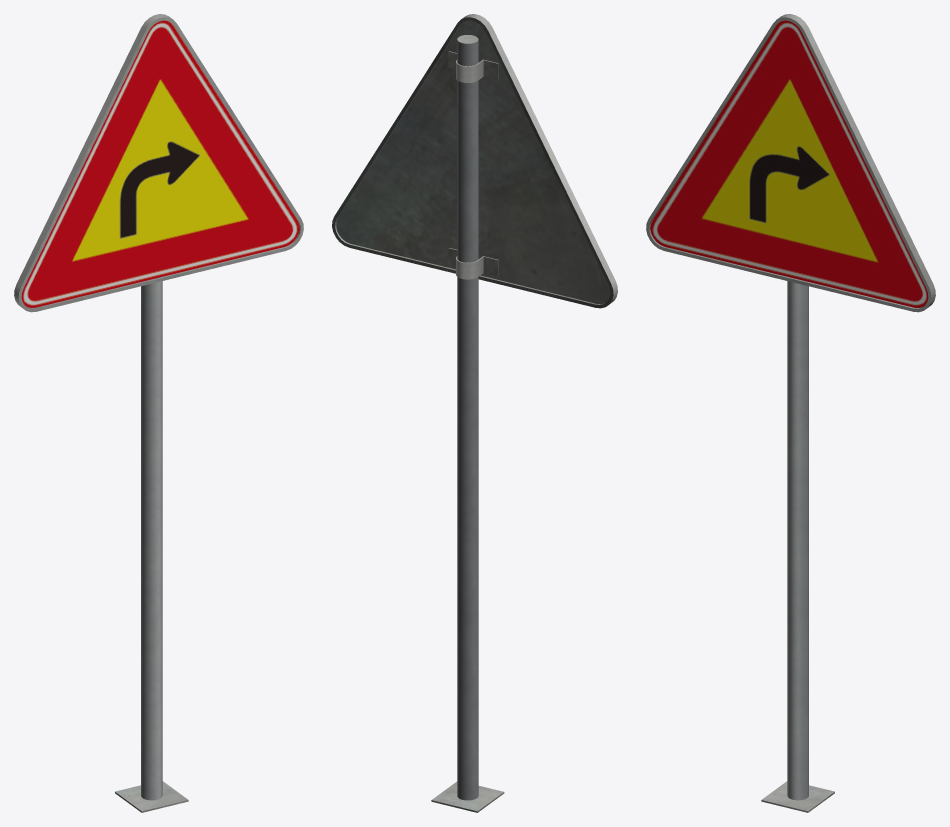
3 renders of one model, left to right at view 1: azimuth 30°, elevation 25°; view 2: azimuth 150°, elevation 25°; view 3: azimuth 330°, elevation 25°, orthographic.
Parts seen in each view (by area): view 1: MainBuilding; view 2: MainBuilding; view 3: MainBuilding.
Boxes of the visible parts, x1,y1,x2,y2 form: MainBuilding: (14,14,303,812); MainBuilding: (332,14,617,812); MainBuilding: (646,14,935,812).
Size of the model in its own units: 0.9151 by 2.41 by 0.15.
1 material, 1 textured.
